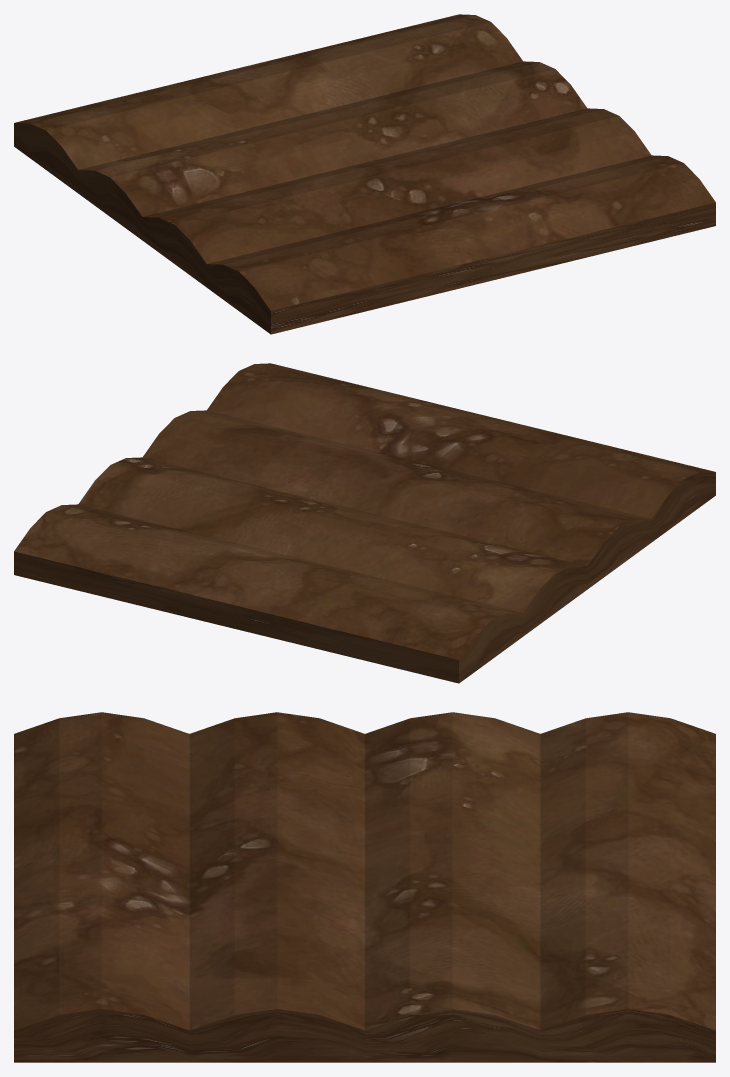
Rendered from dirt.fbx.
3 views of the same model, one above another, from view 1: azimuth 30°, elevation 25°; view 2: azimuth 150°, elevation 25°; view 3: azimuth 270°, elevation 25° (orthographic). The views are drawn at different scales.
Parts seen in each view (by area): view 1: Cube; view 2: Cube; view 3: Cube.
Boxes of the visible parts, x1,y1,x2,y2 form: Cube: (14,14,715,334); Cube: (14,363,715,683); Cube: (14,712,715,1062).
Size of the model in its own units: 200 by 16.95 by 200.
